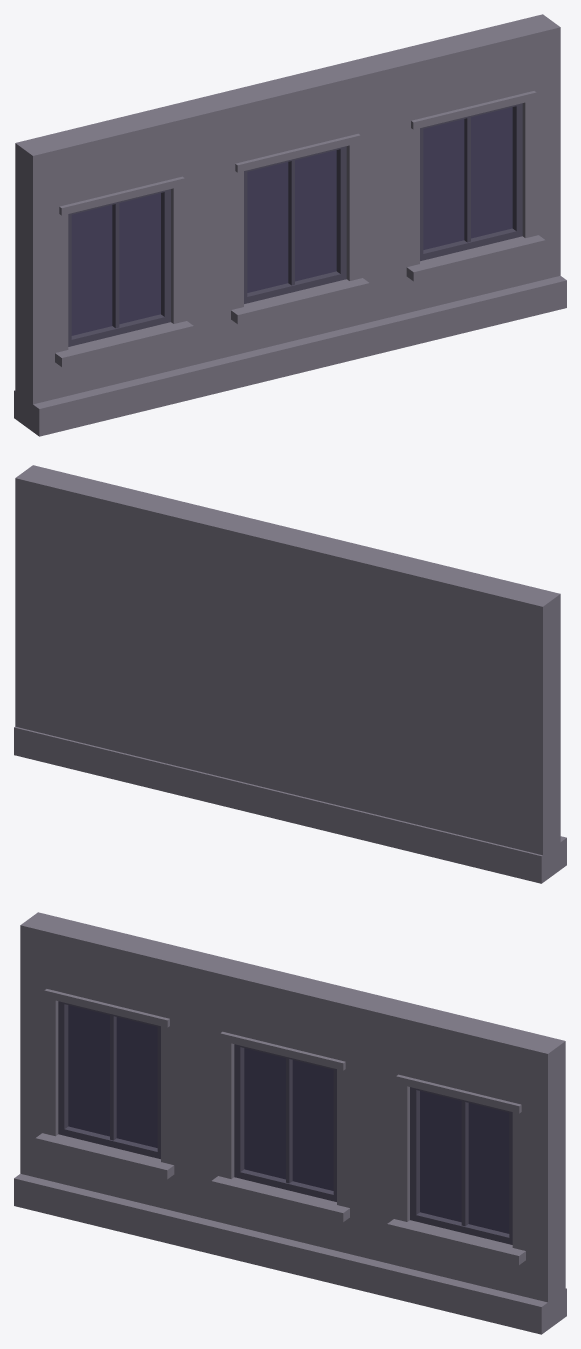
The model's file is Facade.glb.
The picture shows the model from 3 angles, top to bottom: view 1: azimuth 30°, elevation 25°; view 2: azimuth 150°, elevation 25°; view 3: azimuth 330°, elevation 25°; orthographic projection.
Visible parts, largest first — view 1: spandrel (×2), pier (×4), window (×3), floor-slab, window-frame (×12), wall, sill (×3), lintel (×3); view 2: wall, floor-slab, spandrel, pier; view 3: spandrel (×2), pier (×4), window (×3), floor-slab, window-frame (×12), wall, sill (×3), lintel (×3).
Part boxes in pixels (<box>): spandrel (×2): <box>24,21,560,404</box>; pier (×4): <box>24,91,560,358</box>; window (×3): <box>71,107,512,335</box>; floor-slab: <box>14,276,566,436</box>; window-frame (×12): <box>68,103,522,346</box>; wall: <box>15,14,551,424</box>; sill (×3): <box>55,235,545,367</box>; lintel (×3): <box>59,91,536,215</box>; wall: <box>15,471,551,855</box>; floor-slab: <box>14,726,566,883</box>; spandrel: <box>24,465,560,664</box>; pier: <box>551,658,560,802</box>; spandrel (×2): <box>20,919,556,1302</box>; pier (×4): <box>20,989,556,1256</box>; window (×3): <box>68,1005,509,1233</box>; floor-slab: <box>14,1174,566,1334</box>; window-frame (×12): <box>58,1001,512,1244</box>; wall: <box>29,912,565,1322</box>; sill (×3): <box>35,1133,525,1265</box>; lintel (×3): <box>44,989,521,1113</box>.
Size of the model in its own units: 6 by 3 by 0.51.
